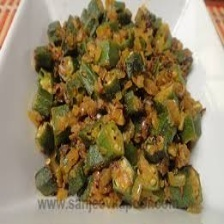sabzi: (22, 0, 209, 218)
